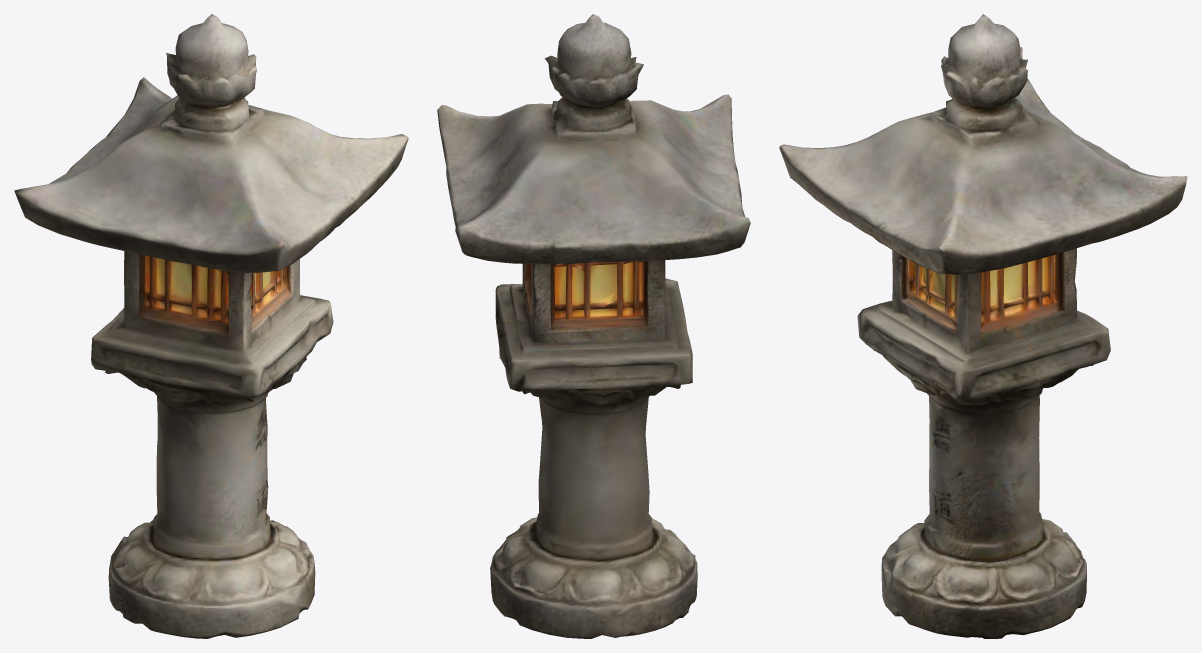
File: deco_lantern.glb
The picture shows the model from 3 angles, left to right: view 1: azimuth 30°, elevation 25°; view 2: azimuth 150°, elevation 25°; view 3: azimuth 270°, elevation 25°; orthographic projection.
Parts seen in each view (by area): view 1: tripo_node_426b575c-d83e-46c1-9d19-d6c5968422c2; view 2: tripo_node_426b575c-d83e-46c1-9d19-d6c5968422c2; view 3: tripo_node_426b575c-d83e-46c1-9d19-d6c5968422c2.
Boxes of the visible parts, box(x1,y1,x2,y2) form: tripo_node_426b575c-d83e-46c1-9d19-d6c5968422c2: box(14, 14, 408, 638); tripo_node_426b575c-d83e-46c1-9d19-d6c5968422c2: box(437, 14, 750, 638); tripo_node_426b575c-d83e-46c1-9d19-d6c5968422c2: box(779, 14, 1187, 638).
Bounding box in the file's own units: 0.6342 × 1 × 0.636.
1 material, 1 textured.
